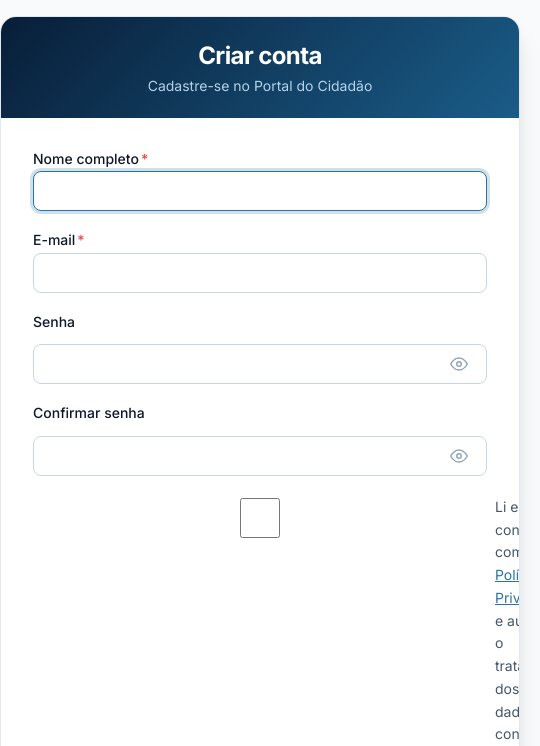
it: CitizenRegisterPage › shows inline error when passwords do not match
The width and height of the screenshot is (540, 746).
Step 1. Type "Senha@123" into the password field labelled "Senha" → (260,364), box [33, 344, 487, 384]
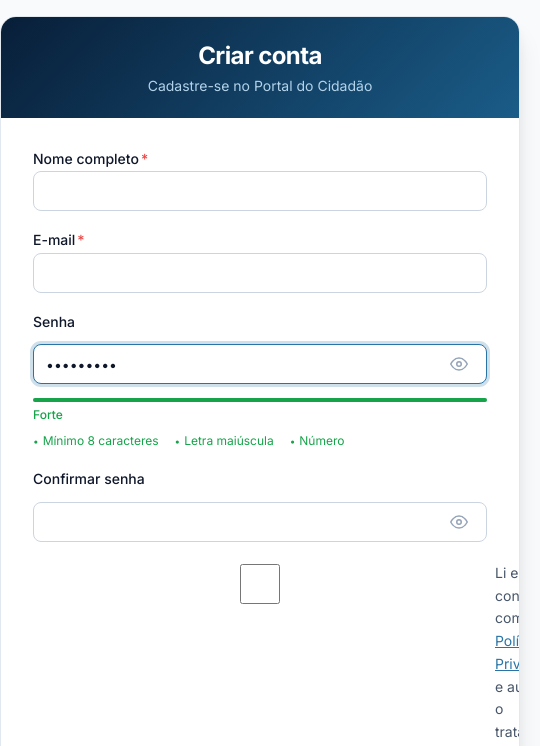
Step 2. Type "Diferente@1" into the password field labelled "Confirmar senha" → (260,522), box [33, 502, 487, 542]
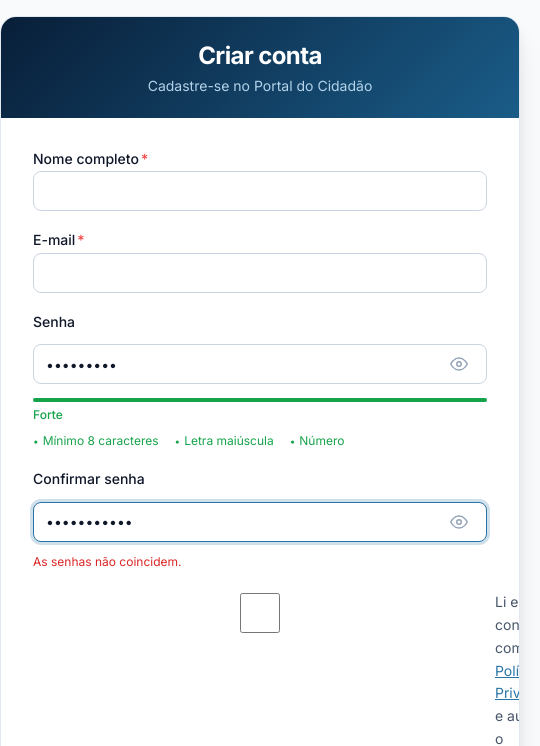
Now the message shows "As senhas não coincidem", box [33, 554, 182, 569]
